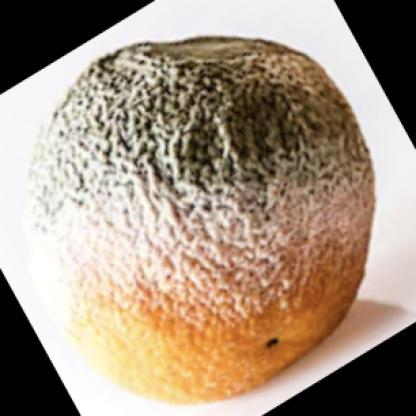rotten: (28, 36, 372, 400)
